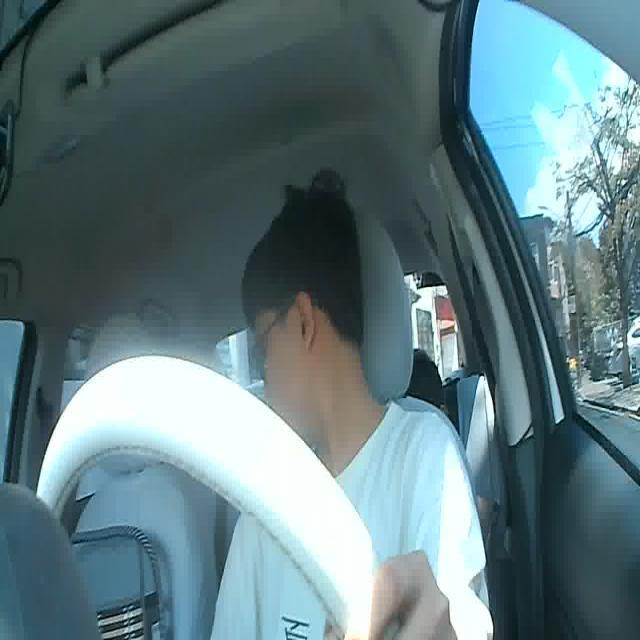Eye-Close: (256, 341, 276, 360)
Inattentive: (241, 185, 363, 442)
